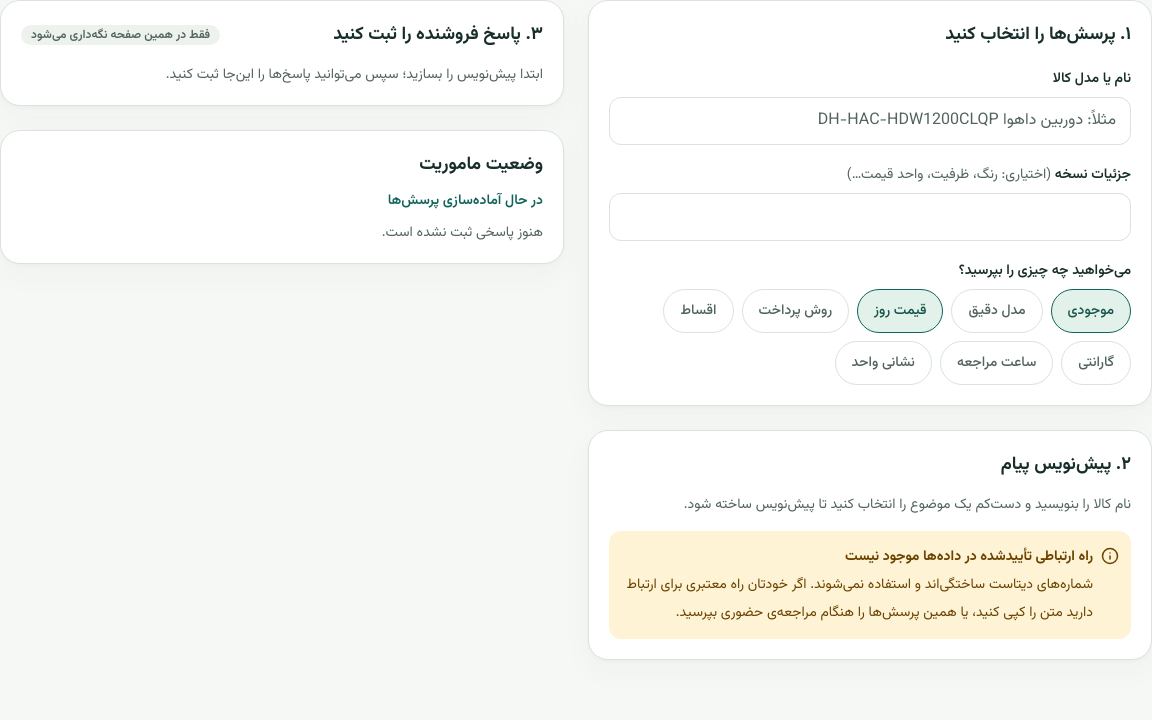
Test: SellerQa (local-only workspace) › builds a draft, copies it for the USER, and never claims it was sent
The width and height of the screenshot is (1152, 720).
In the field labelled "نام یا مدل کالا": point(870, 121) [609, 97, 1131, 145], type "دوربین DH-HAC-HDW1200CLQP"
(page scrolled)
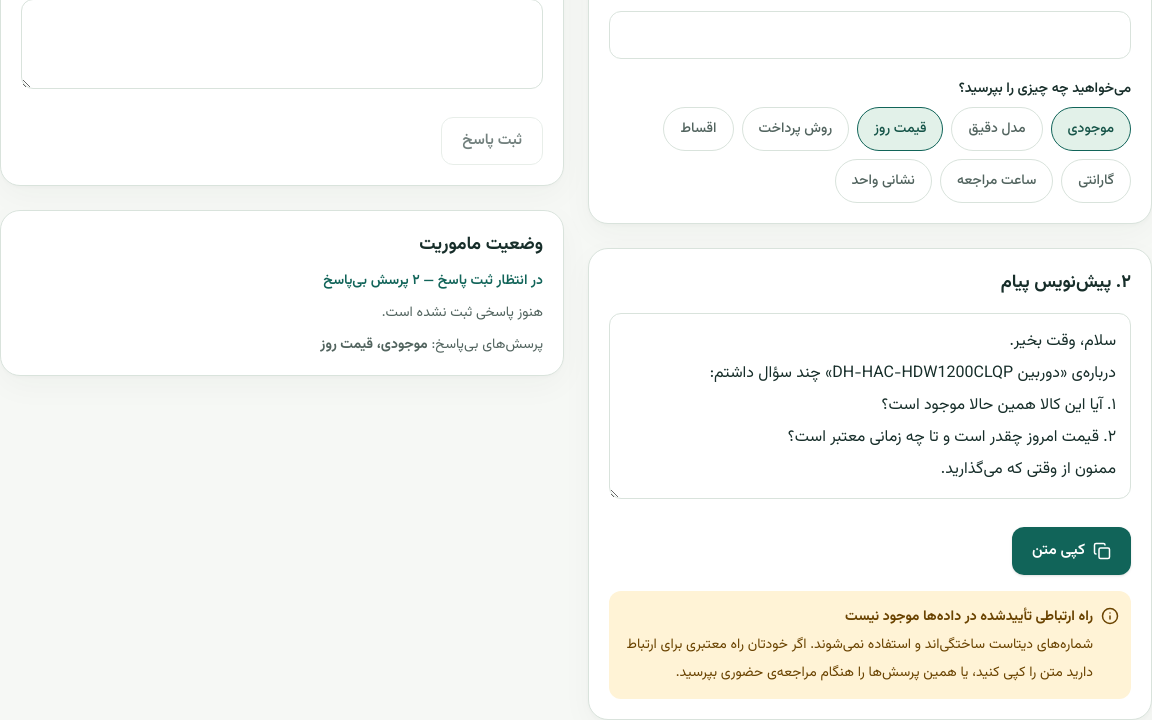
Click the button "کپی متن": point(1072, 551) [1012, 527, 1131, 575]
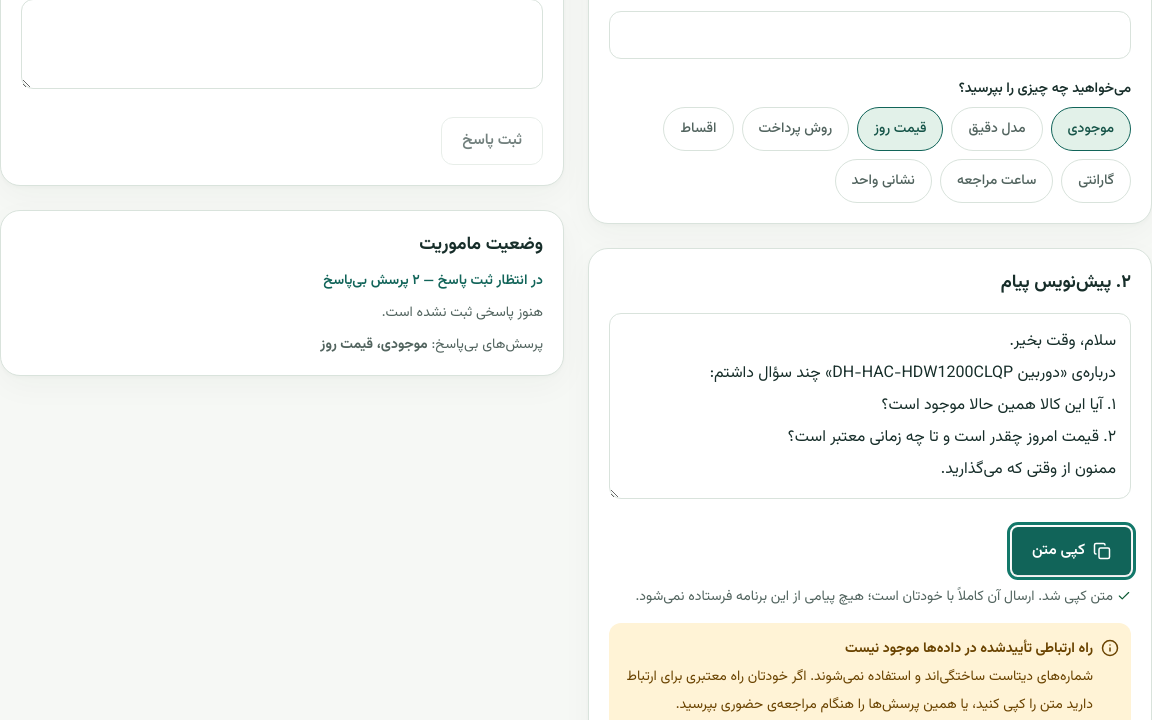
expect the text "متن کپی شد" is shown: met, box [636, 586, 1113, 608]
